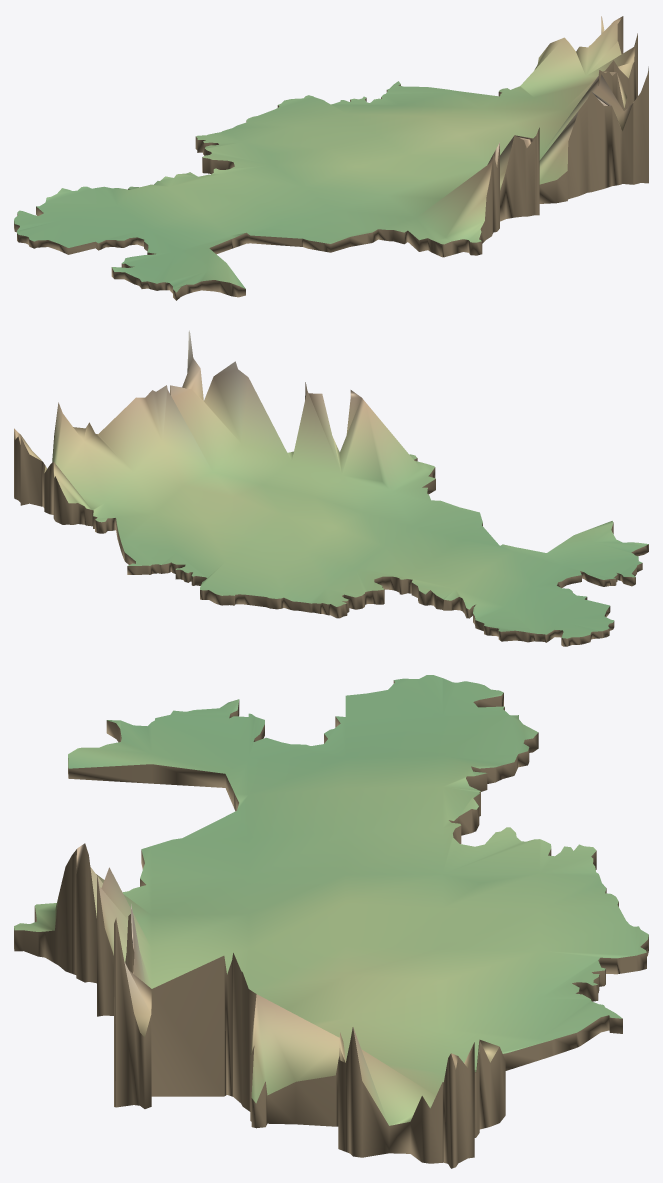
The model's file is KAZ.glb.
3 renders of one model, top to bottom at view 1: azimuth 30°, elevation 25°; view 2: azimuth 150°, elevation 25°; view 3: azimuth 270°, elevation 25°, orthographic. The views are drawn at different scales.
Visible parts, largest first — view 1: KAZ; view 2: KAZ; view 3: KAZ.
Boxes of the visible parts, box(x1,y1,x2,y2) form: KAZ: box(14, 16, 648, 300); KAZ: box(14, 330, 648, 646); KAZ: box(14, 675, 648, 1168).
Size of the model in its own units: 1.84 by 0.338 by 1.03.
